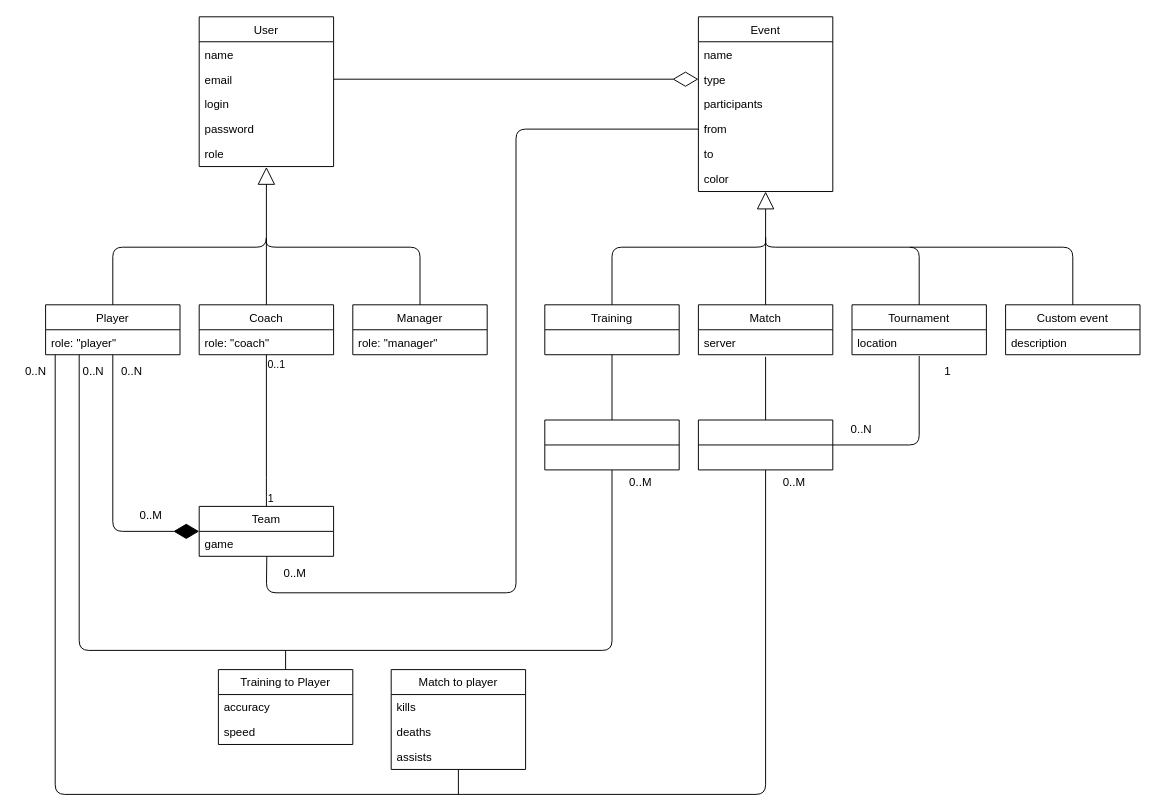
The diagram is 1157 pixels wide and 812 high, and some of its shapes have lost their labels. Each missing label, with the centre of its shape:
"Match result" belongs at point (765, 444).
"Training result" belongs at point (611, 444).
